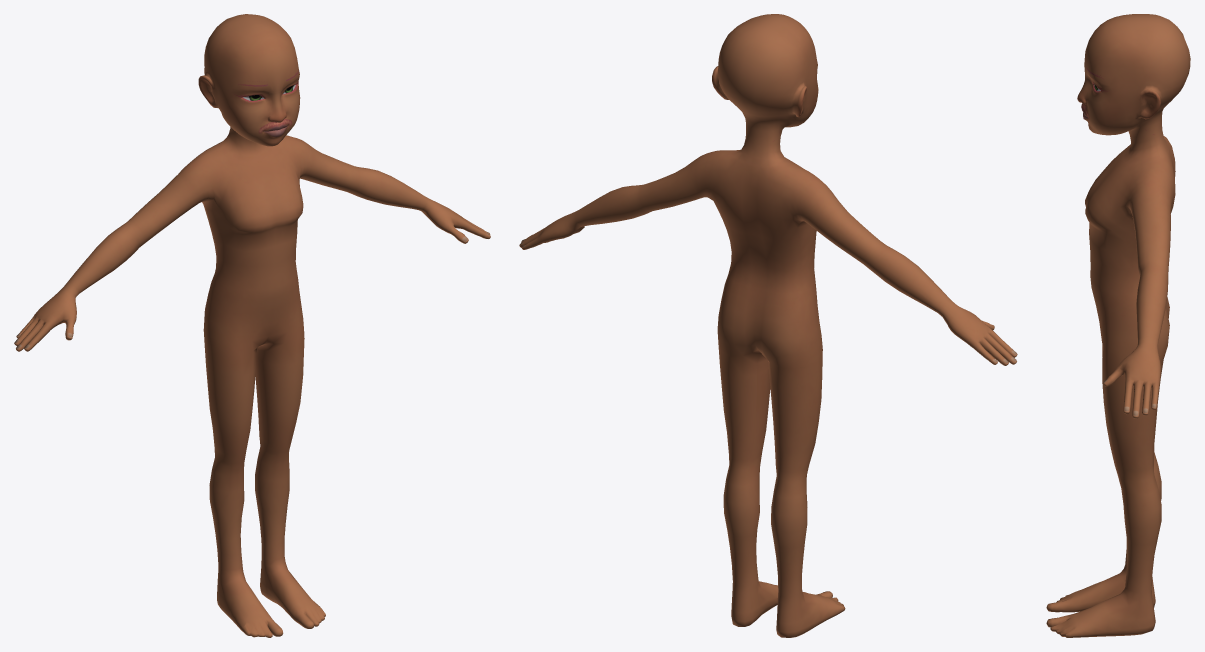
Rendered from frame_0087.glb.
3 views of the same model, side by side, from view 1: azimuth 30°, elevation 25°; view 2: azimuth 150°, elevation 25°; view 3: azimuth 270°, elevation 25° (orthographic). The views are drawn at different scales.
Visible parts, largest first — view 1: frame_0087_head_geo; view 2: frame_0087_head_geo; view 3: frame_0087_head_geo.
Part boxes in pixels (<box>): frame_0087_head_geo: <box>14,14,490,637</box>; frame_0087_head_geo: <box>519,14,1017,637</box>; frame_0087_head_geo: <box>1046,14,1190,637</box>.
Size of the model in its own units: 1.28 by 1.5 by 0.3253.
3 materials, 3 textured.
